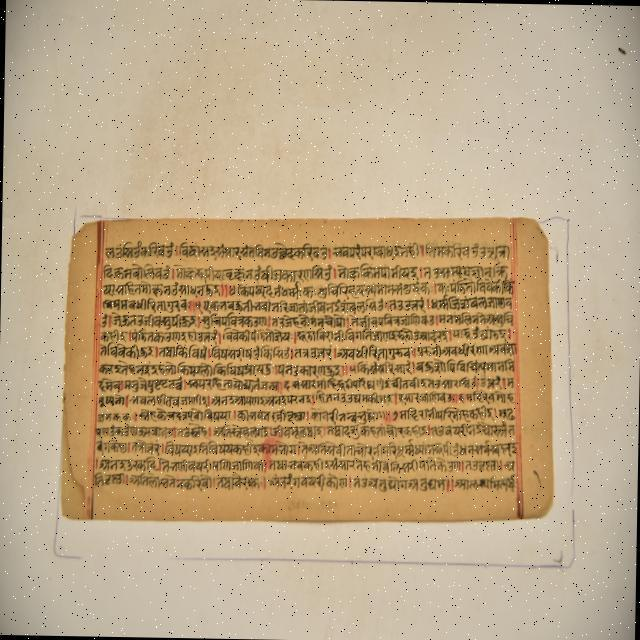text_paragraph: (60, 214, 548, 517)
